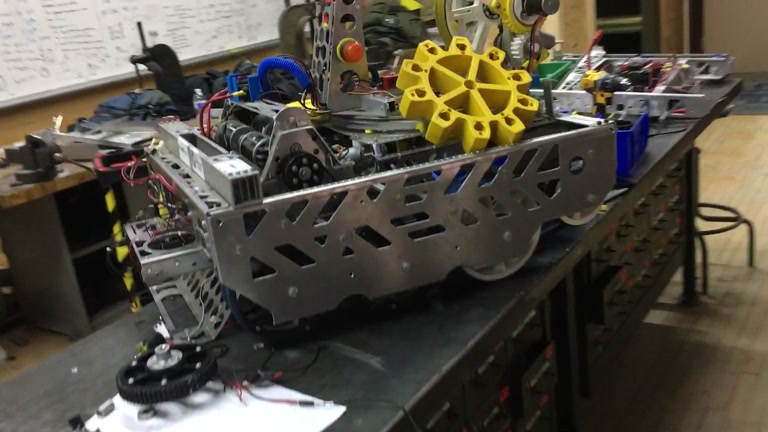gear: (395, 33, 539, 152)
